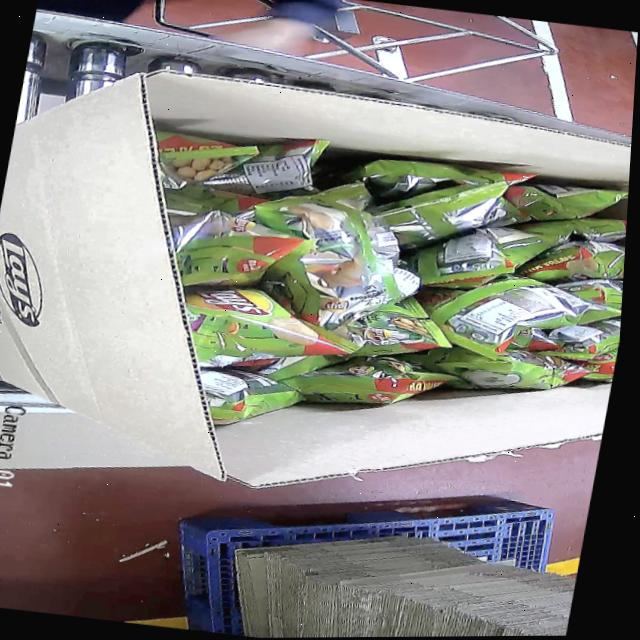YOGURT_HERB: (114, 124, 632, 470)
